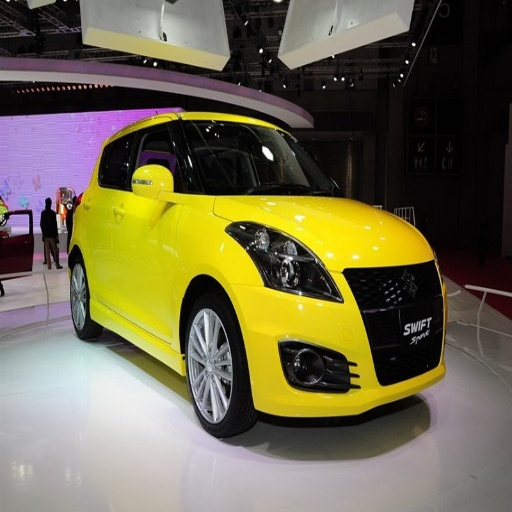front_right_door: (120, 161, 174, 336)
front_right_light: (226, 223, 342, 301)
